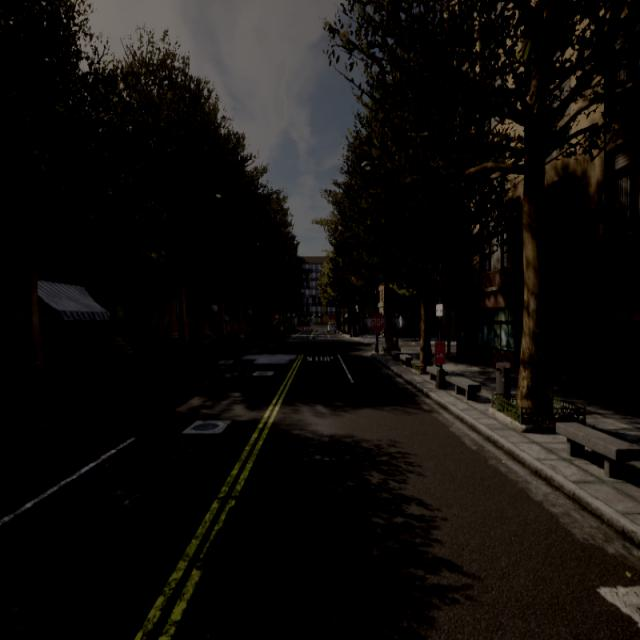stop sign: (367, 308, 388, 354), (368, 311, 387, 335)
